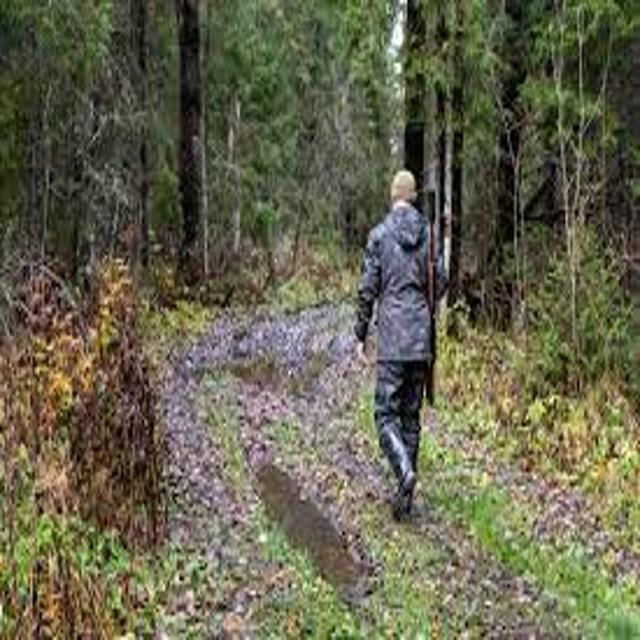gun: (400, 176, 465, 425)
poacher: (318, 144, 504, 543)
